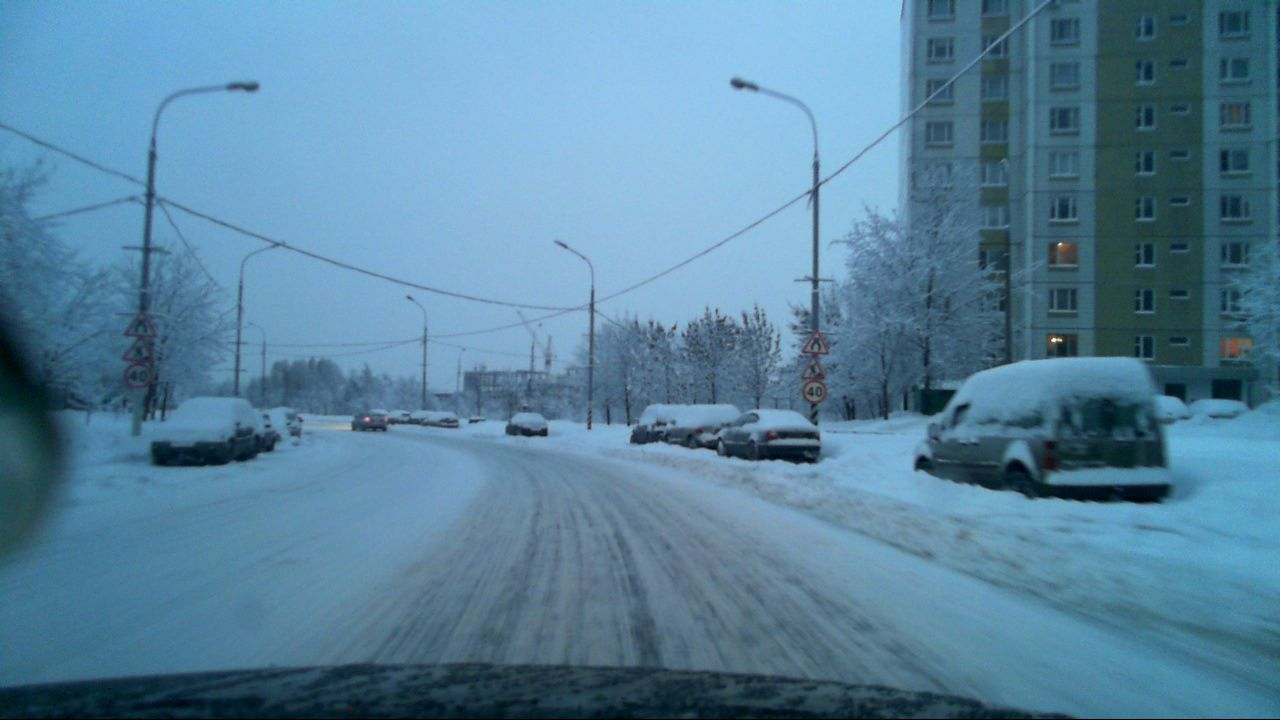speed_warning_40: (801, 378, 830, 401)
